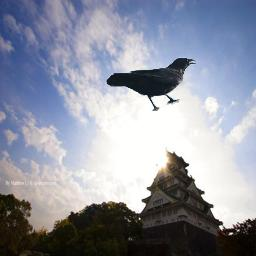Crow: (106, 57, 198, 111)
